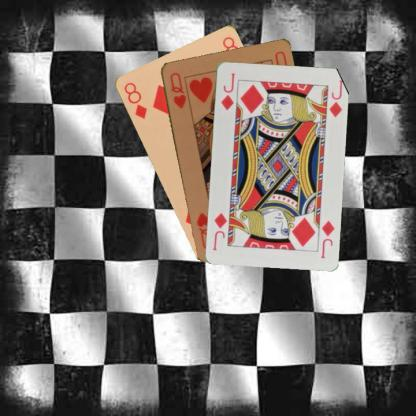8d: (121, 79, 148, 120)
Jd: (318, 217, 336, 259), (218, 70, 236, 111)
Qh: (167, 69, 187, 110)
